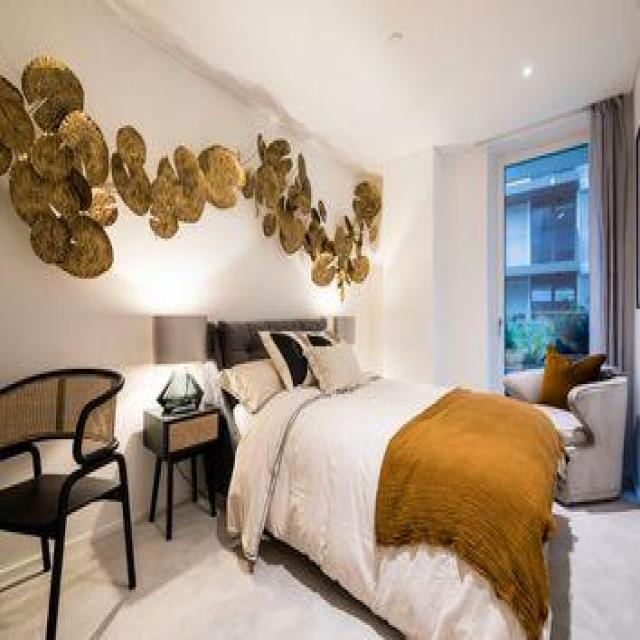Wall: (0, 146, 491, 386), (124, 1, 640, 167), (0, 0, 363, 232), (59, 498, 397, 639), (556, 505, 640, 638), (0, 562, 49, 638)
